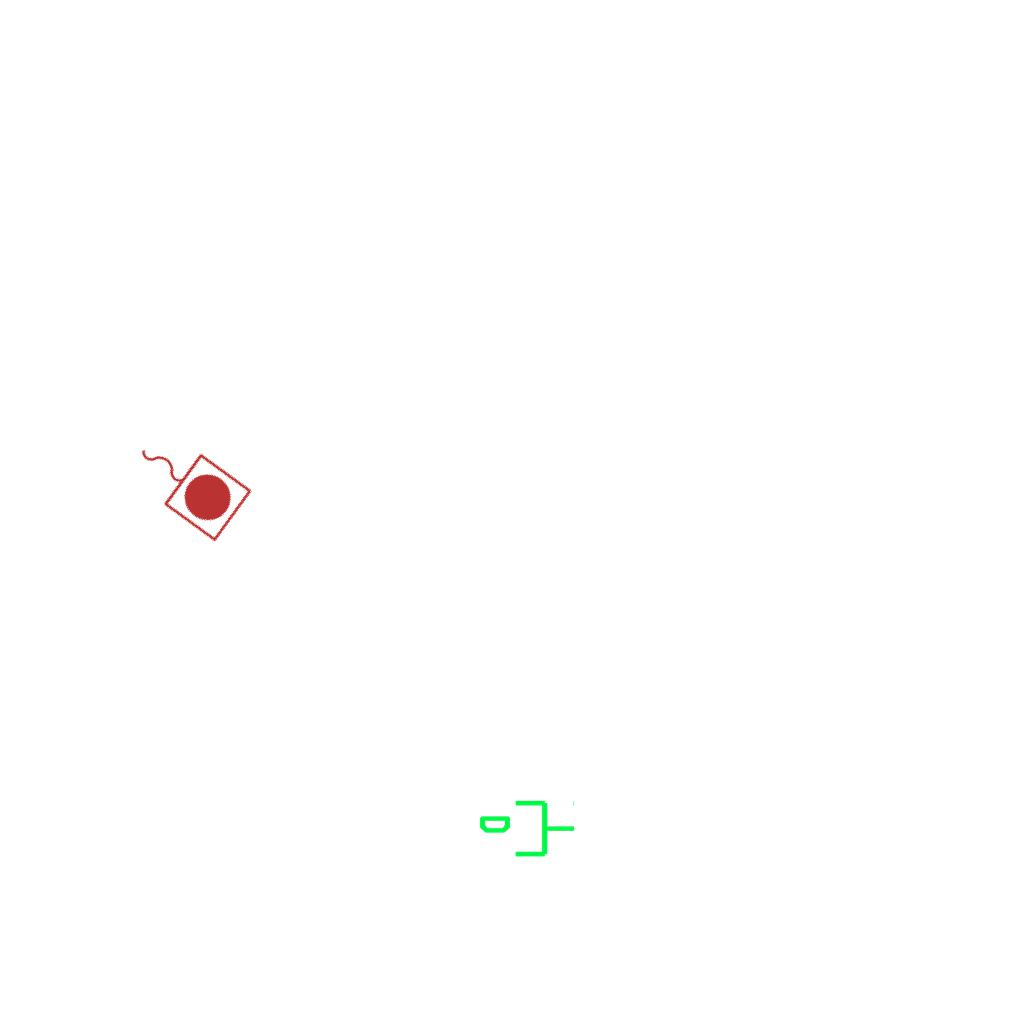Datenanschluss_einfach: (477, 796, 577, 865)
Zugtaster: (117, 417, 259, 547)
